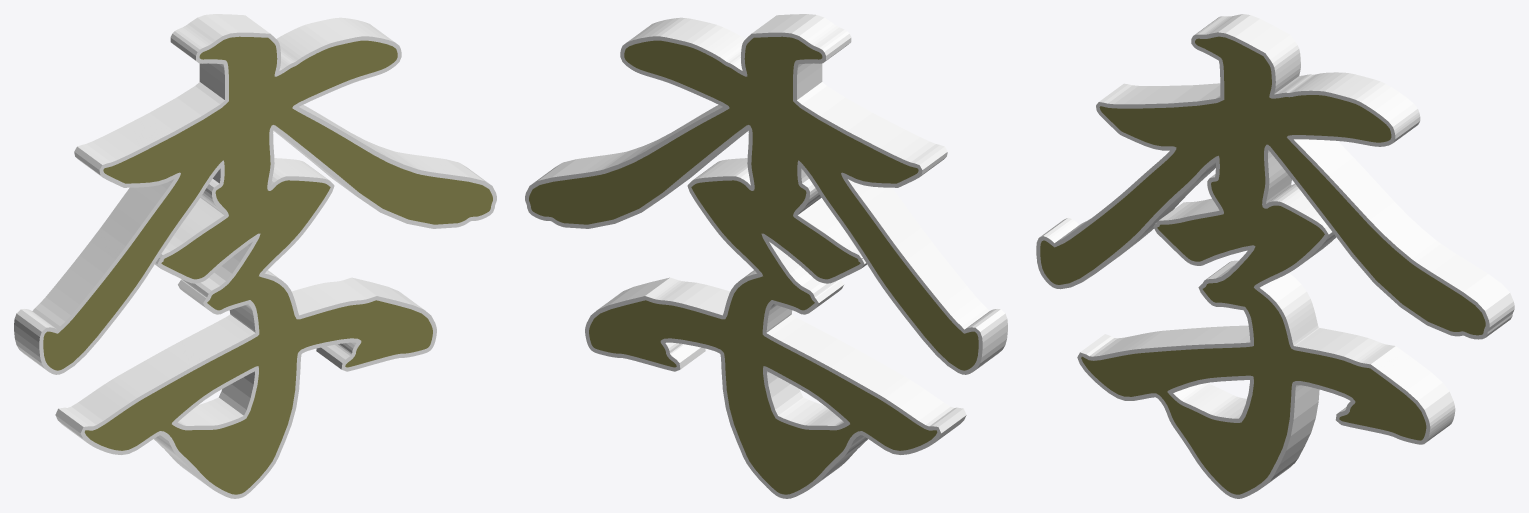
File: model_sumomo.glb
3 renders of one model, left to right at view 1: azimuth 30°, elevation 25°; view 2: azimuth 150°, elevation 25°; view 3: azimuth 330°, elevation 25°, orthographic.
Parts seen in each view (by area): view 1: TraceGenius sumomo.001, TraceGenius sumomo.002; view 2: TraceGenius sumomo.001, TraceGenius sumomo.002; view 3: TraceGenius sumomo.001, TraceGenius sumomo.002.
Boxes of the visible parts, bbox=[...] form: TraceGenius sumomo.001: bbox=[43, 36, 492, 494]; TraceGenius sumomo.002: bbox=[14, 14, 496, 498]; TraceGenius sumomo.001: bbox=[529, 36, 978, 494]; TraceGenius sumomo.002: bbox=[525, 14, 1007, 498]; TraceGenius sumomo.001: bbox=[1040, 36, 1485, 494]; TraceGenius sumomo.002: bbox=[1036, 14, 1514, 498].
Size of the model in its own units: 3.45 by 3.36 by 0.33.
